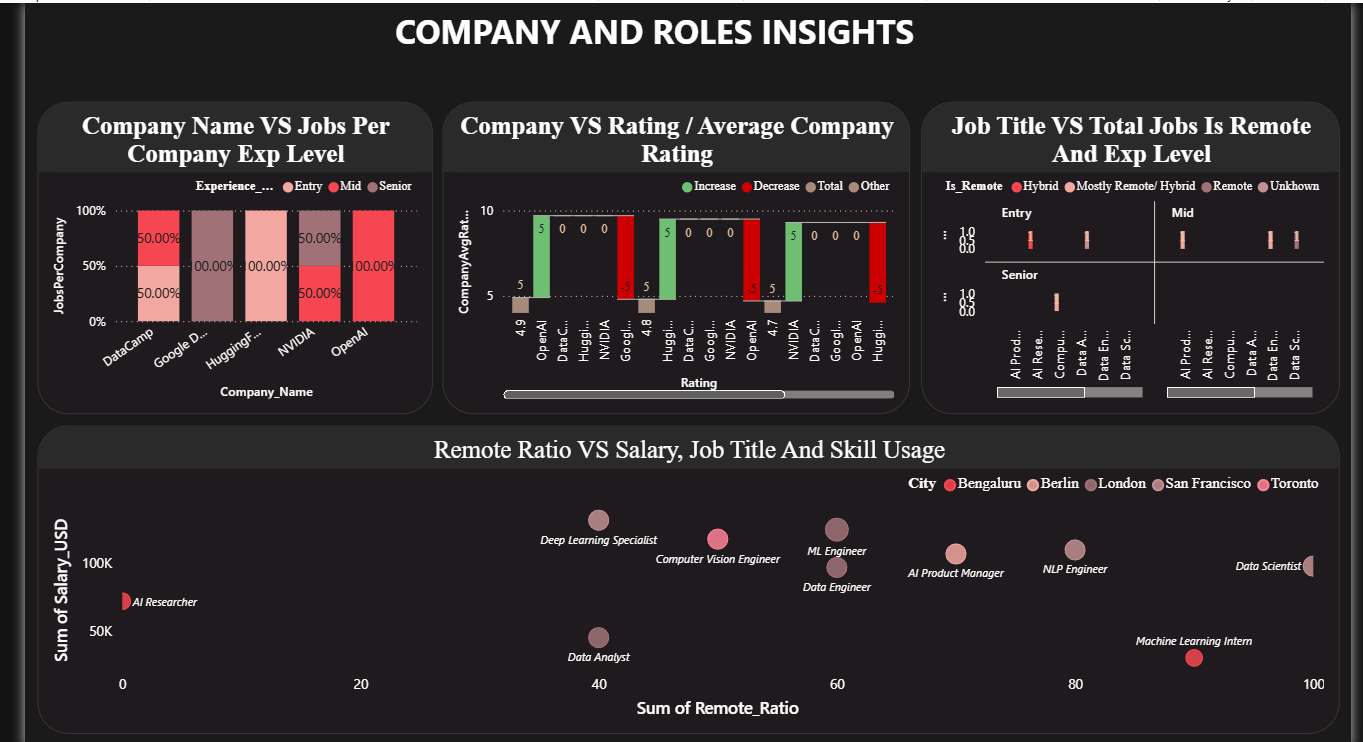

This screenshot's page, from the dashboard's own definition file:
{"tool":"powerbi","page":{"name":"Company And Roles Insides","canvas":[1280,720],"ordinal":2},"visuals":[{"type":"textbox","box":[352.3,0,545.3,79.6],"z":0},{"type":"clusteredColumnChart","title":"Job Title VS Total Jobs Is Remote And Exp Level","fields":{"Category":["Fact_Jobs.Job_Title"],"Series":["Fact_Jobs.Is_Remote"],"Y":["Fact_Jobs.Totaljobs"],"Rows":["Fact_Jobs.Experience_Level"]},"box":[865,95.3,404.2,301.6],"z":1000},{"type":"waterfallChart","title":"Company VS Rating / Average Company Rating ","fields":{"Category":["Dim_Companies.Rating"],"Breakdown":["Dim_Companies.Company_Name"],"Y":["Dim_Companies.CompanyAvgRating"]},"box":[403,95.3,451.2,301.6],"z":2000},{"type":"hundredPercentStackedColumnChart","title":"Company Name VS Jobs Per Company Exp Level","fields":{"Category":["Dim_Companies.Company_Name"],"Y":["Dim_Companies.JobsPerCompany"],"Series":["Fact_Jobs.Experience_Level"]},"box":[12.1,95.3,381.2,301.6],"z":3000},{"type":"scatterChart","title":"Remote Ratio VS Salary, Job Title And Skill Usage","fields":{"Series":["Dim_Locations.City"],"Category":["Fact_Jobs.Job_Title"],"X":["Sum(Fact_Jobs.Remote_Ratio)"],"Y":["Sum(Fact_Jobs.Salary_USD)"],"Size":["Dim_Skills.SkillUsageCount"]},"box":[12.1,407.8,1257.1,298],"z":4000}]}

Visuals, with their boxes on the page's 1280x720 design canvas (x1, y1, x2, y2). These are canvas units, not pixel positions in the 1363x742 screenshot, which may show the page scaled, cropped or inside an application window:
textbox: locate(352, 0, 898, 80)
"Job Title VS Total Jobs Is Remote And Exp Level" clusteredColumnChart: locate(865, 95, 1269, 397)
"Company VS Rating / Average Company Rating " waterfallChart: locate(403, 95, 854, 397)
"Company Name VS Jobs Per Company Exp Level" hundredPercentStackedColumnChart: locate(12, 95, 393, 397)
"Remote Ratio VS Salary, Job Title And Skill Usage" scatterChart: locate(12, 408, 1269, 706)
